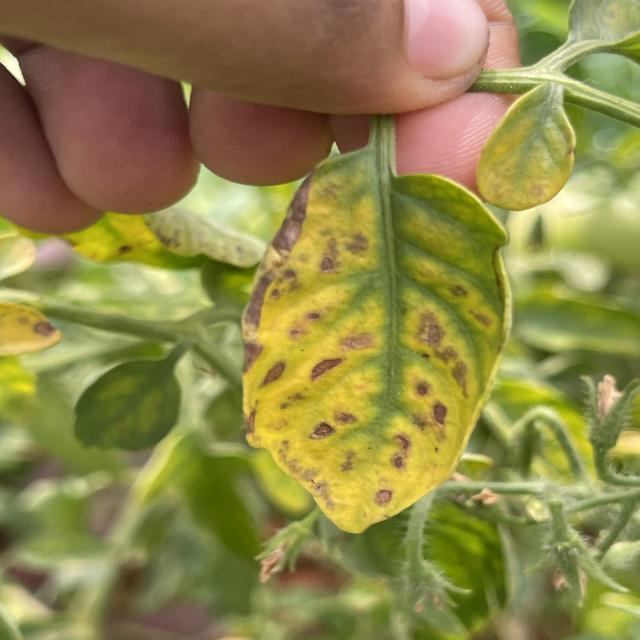tomato_early blight: (235, 154, 514, 530), (470, 75, 582, 208)
